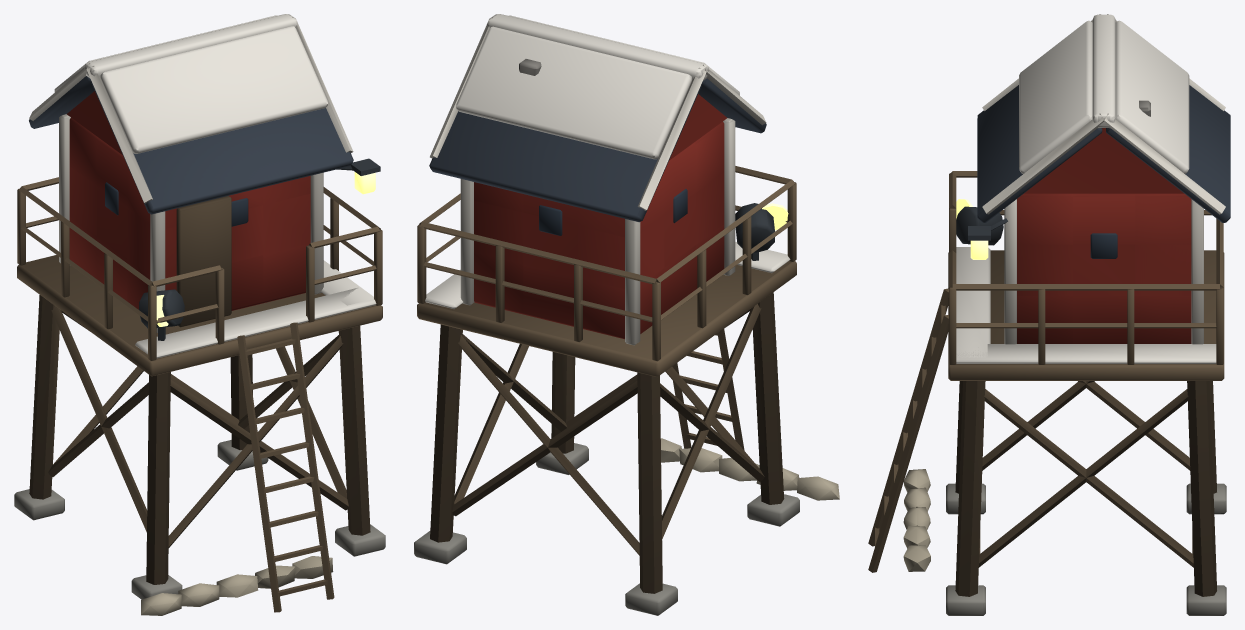
Rendered from watch_hut.glb.
3 views of the same model, side by side, from view 1: azimuth 30°, elevation 25°; view 2: azimuth 150°, elevation 25°; view 3: azimuth 270°, elevation 25° (orthographic). The views are drawn at different scales.
Visible parts, largest first — view 1: watch_hut_wood, watch_hut_snow, watch_hut_red_timber, watch_hut_slate, watch_hut_white_paint, watch_hut_canvas, watch_hut_concrete, watch_hut_iron, watch_hut_glass, watch_hut_lamp; view 2: watch_hut_wood, watch_hut_red_timber, watch_hut_snow, watch_hut_slate, watch_hut_white_paint, watch_hut_concrete, watch_hut_canvas, watch_hut_iron, watch_hut_glass; view 3: watch_hut_wood, watch_hut_red_timber, watch_hut_snow, watch_hut_slate, watch_hut_white_paint, watch_hut_concrete, watch_hut_canvas, watch_hut_iron, watch_hut_glass, watch_hut_lamp.
Boxes of the visible parts, <box> form: watch_hut_wood: <box>17,177,382,612</box>; watch_hut_snow: <box>54,14,376,358</box>; watch_hut_red_timber: <box>67,91,310,310</box>; watch_hut_slate: <box>29,76,353,214</box>; watch_hut_white_paint: <box>29,14,353,332</box>; watch_hut_canvas: <box>141,556,333,615</box>; watch_hut_concrete: <box>14,440,385,599</box>; watch_hut_iron: <box>138,158,380,340</box>; watch_hut_glass: <box>105,182,248,226</box>; watch_hut_lamp: <box>156,172,375,326</box>; watch_hut_wood: <box>417,166,796,593</box>; watch_hut_red_timber: <box>474,94,726,339</box>; watch_hut_snow: <box>425,14,790,308</box>; watch_hut_slate: <box>429,78,766,222</box>; watch_hut_white_paint: <box>430,14,766,345</box>; watch_hut_concrete: <box>414,443,799,615</box>; watch_hut_canvas: <box>660,438,839,500</box>; watch_hut_iron: <box>735,203,774,260</box>; watch_hut_glass: <box>539,189,687,235</box>; watch_hut_wood: <box>868,171,1224,596</box>; watch_hut_red_timber: <box>1017,128,1191,343</box>; watch_hut_snow: <box>956,14,1216,363</box>; watch_hut_slate: <box>977,85,1230,222</box>; watch_hut_white_paint: <box>982,14,1225,344</box>; watch_hut_concrete: <box>946,483,1226,615</box>; watch_hut_canvas: <box>903,469,930,571</box>; watch_hut_iron: <box>956,206,1007,245</box>; watch_hut_glass: <box>1090,233,1117,258</box>; watch_hut_lamp: <box>956,199,988,259</box>.
Size of the model in its own units: 3.51 by 6.13 by 4.07.
